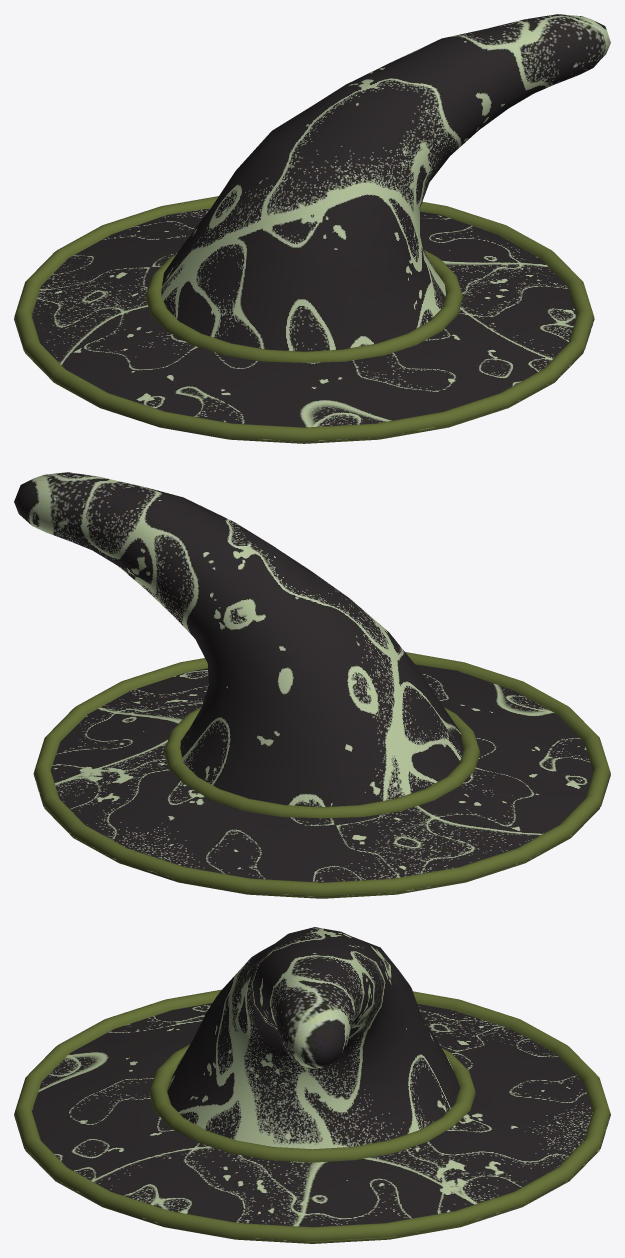
The model's file is HAT3.fbx.
The picture shows the model from 3 angles, top to bottom: view 1: azimuth 30°, elevation 25°; view 2: azimuth 150°, elevation 25°; view 3: azimuth 270°, elevation 25°; orthographic projection. The views are drawn at different scales.
Visible parts, largest first — view 1: Hat3; view 2: Hat3; view 3: Hat3.
Boxes of the visible parts, x1,y1,x2,y2 form: Hat3: (14, 14, 610, 443); Hat3: (14, 472, 610, 898); Hat3: (14, 927, 610, 1243).
Size of the model in its own units: 6650 by 2768 by 6000.
